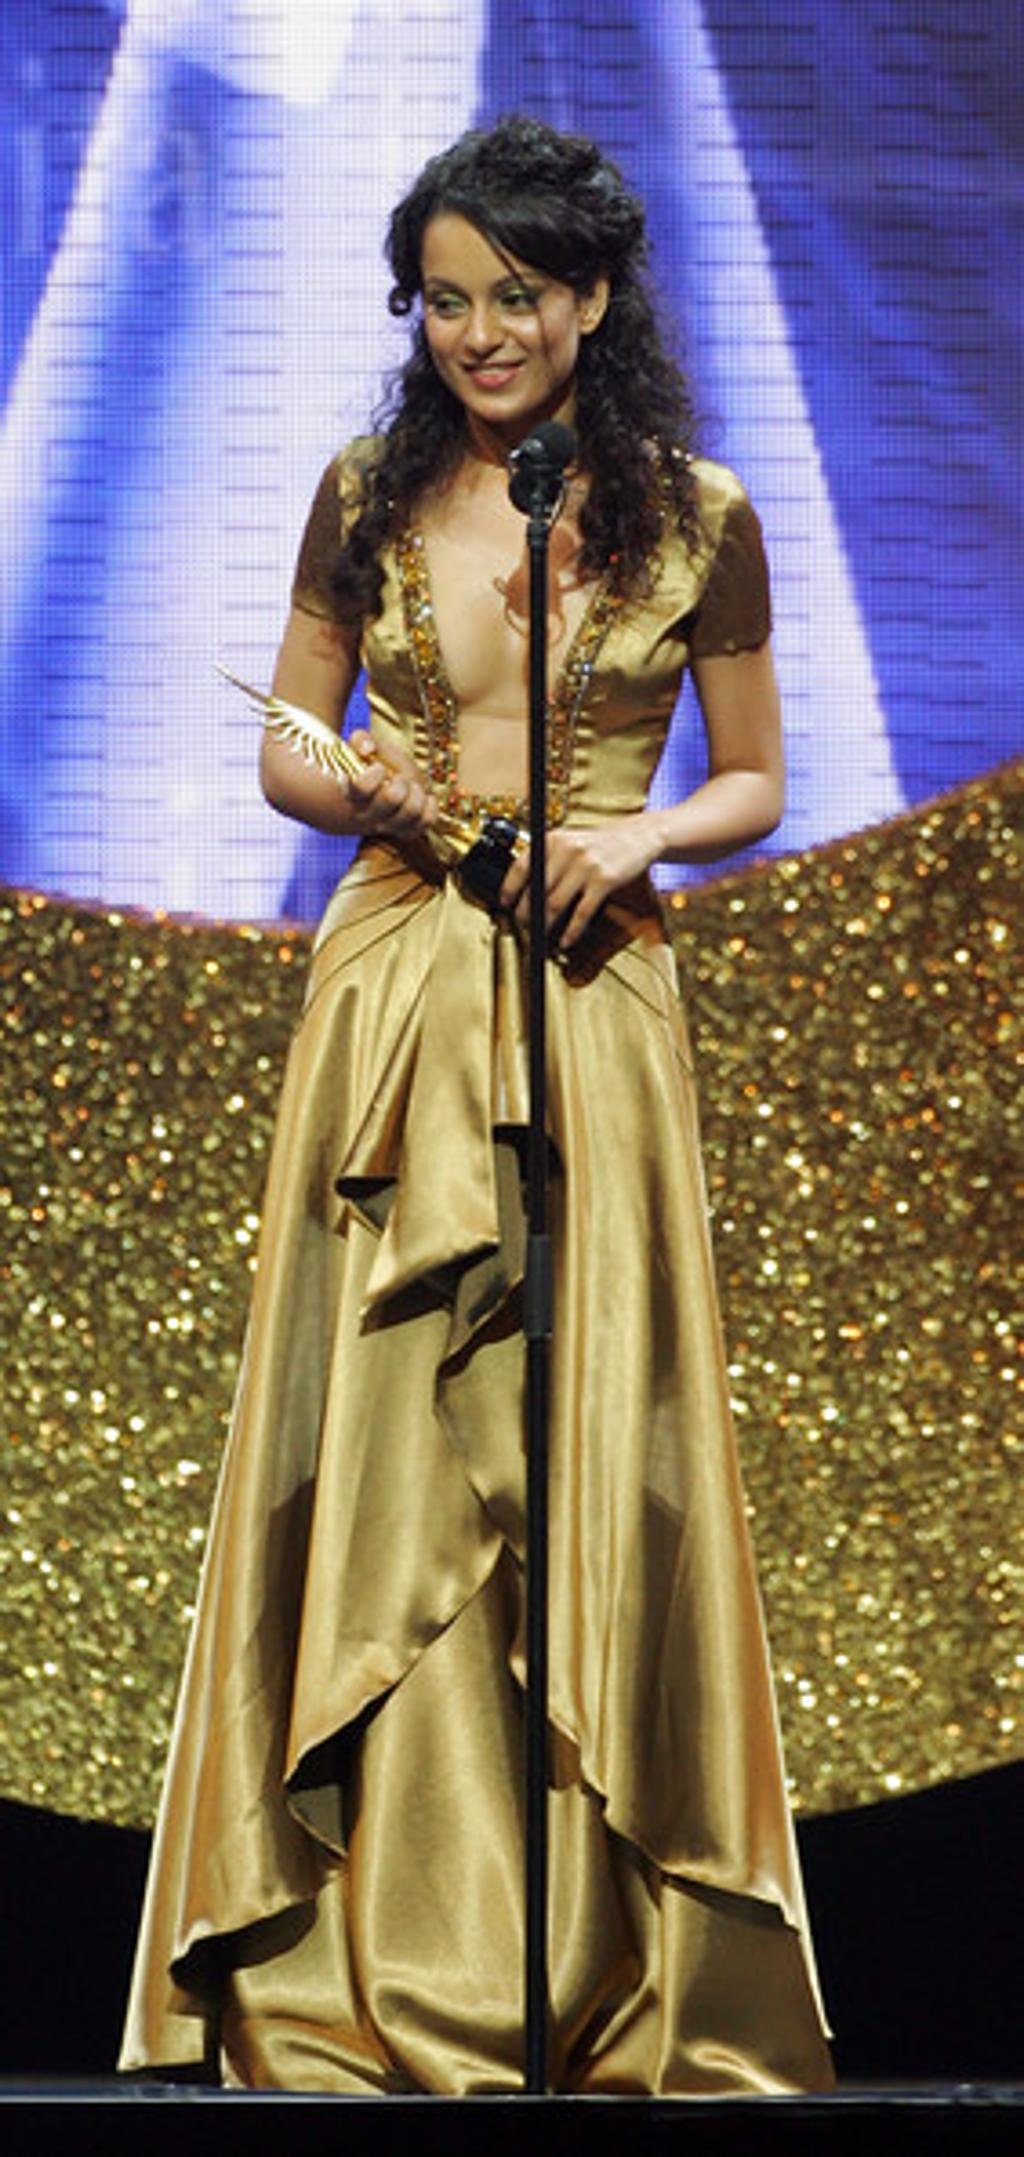face: (426, 211, 582, 422)
